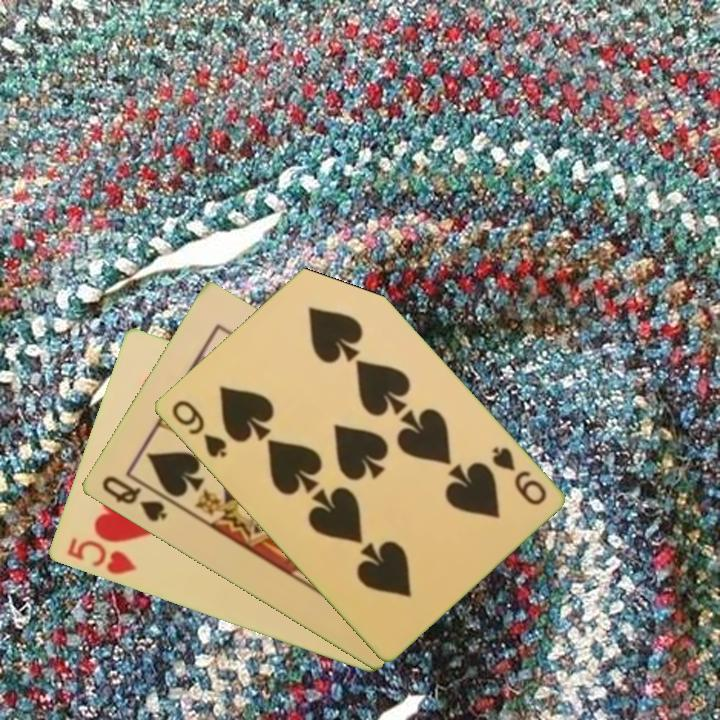5h: (62, 534, 139, 578)
9s: (167, 396, 230, 461), (487, 442, 549, 508)
Qs: (97, 472, 170, 526)
